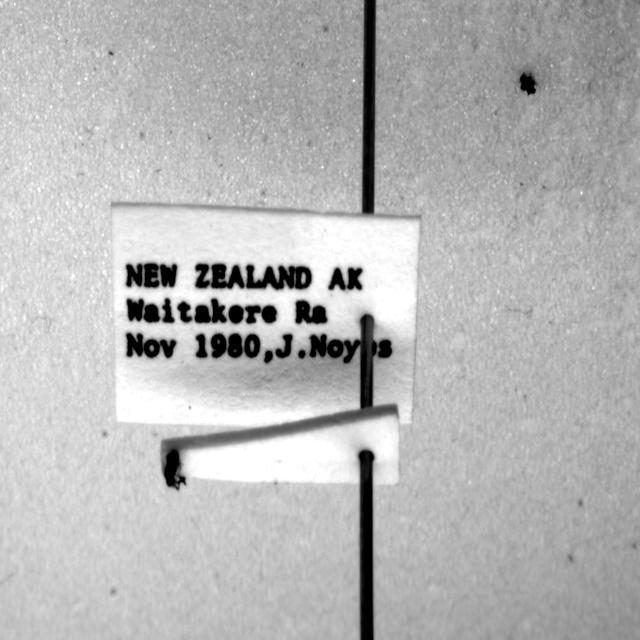typed_label: (111, 204, 420, 426)
